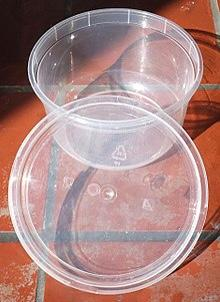plastic: (8, 0, 219, 301)
